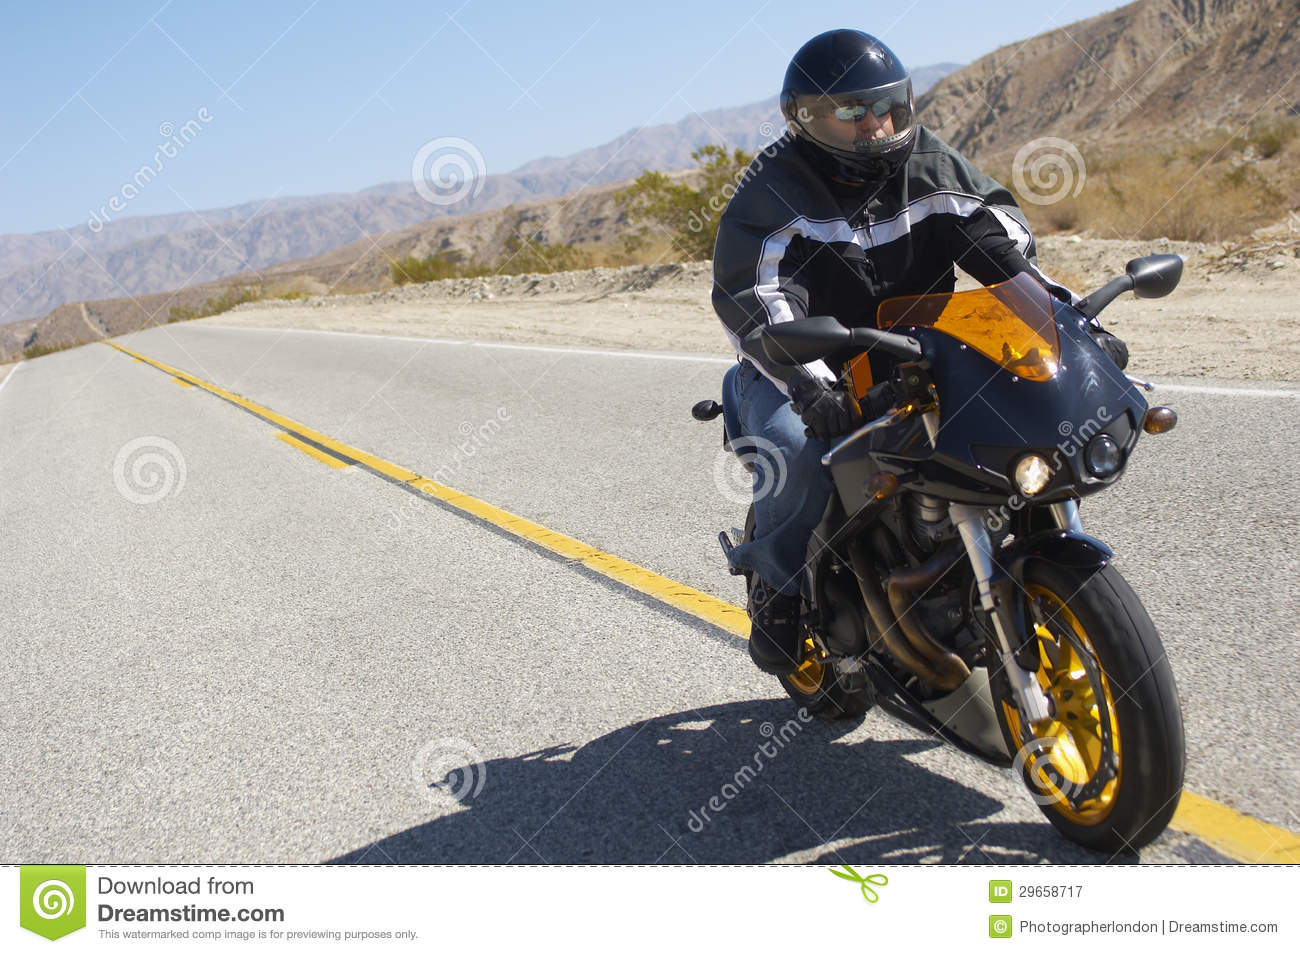helmet: (770, 27, 927, 189)
